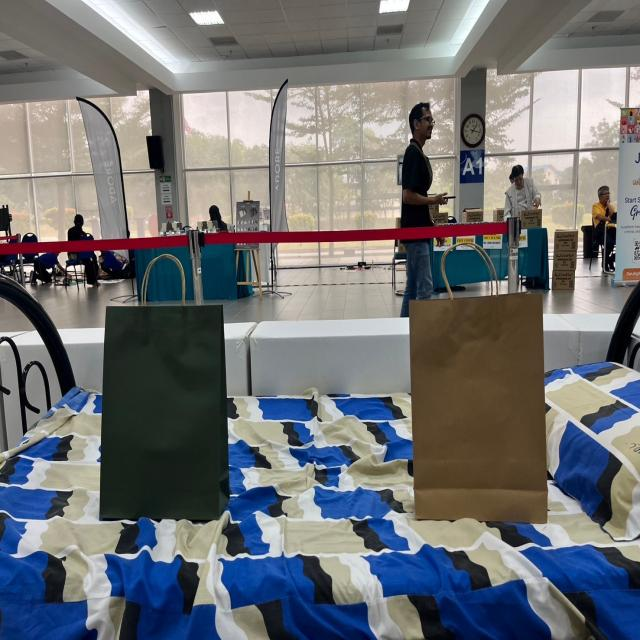bag: (408, 235, 542, 522), (101, 257, 222, 512)
